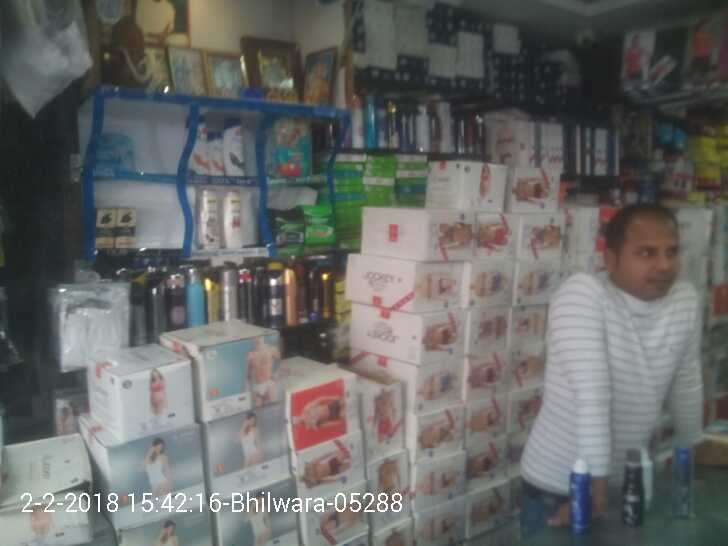venus: (96, 134, 135, 171)
